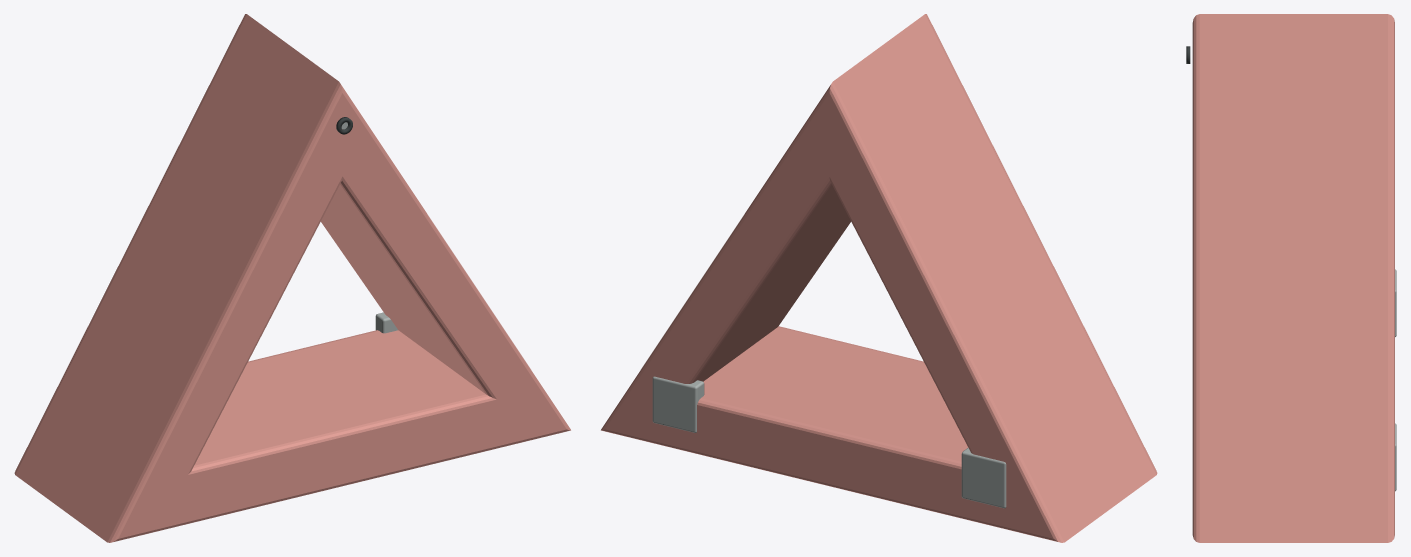
Rendered from indoor-climbing-and-bouldering-gym-indoor-climbing-and-5840e450__31522.glb.
The picture shows the model from 3 angles, left to right: view 1: azimuth 30°, elevation 25°; view 2: azimuth 150°, elevation 25°; view 3: azimuth 270°, elevation 25°; orthographic projection. The views are drawn at different scales.
Parts seen in each view (by area): view 1: indoor-climbing-and-bouldering-gym-triangular-climbing-volum; view 2: indoor-climbing-and-bouldering-gym-triangular-climbing-volum (×2); view 3: indoor-climbing-and-bouldering-gym-triangular-climbing-volum (×2).
Part boxes in pixels (bbox=[...]): indoor-climbing-and-bouldering-gym-triangular-climbing-volum: bbox=[14, 14, 570, 542]; indoor-climbing-and-bouldering-gym-triangular-climbing-volum (×2): bbox=[601, 14, 1157, 542]; indoor-climbing-and-bouldering-gym-triangular-climbing-volum (×2): bbox=[1192, 14, 1396, 542].
Size of the model in its own units: 0.9295 by 0.7753 by 0.358.
